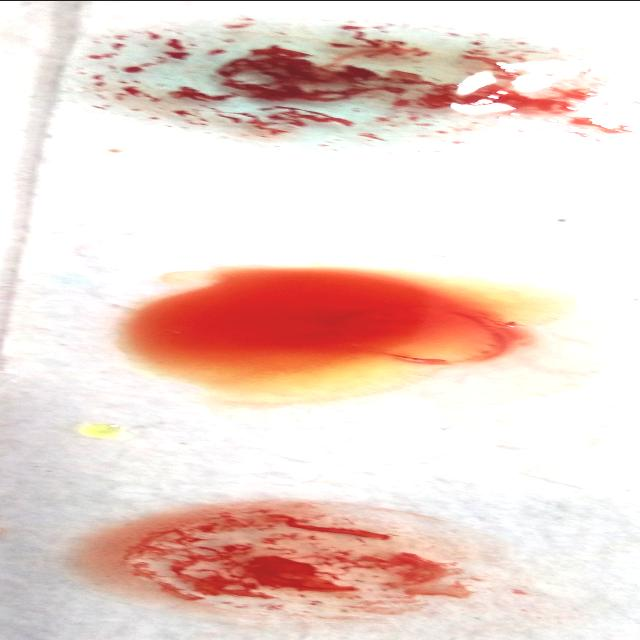A: (65, 10, 596, 158)
D: (79, 504, 535, 620)
